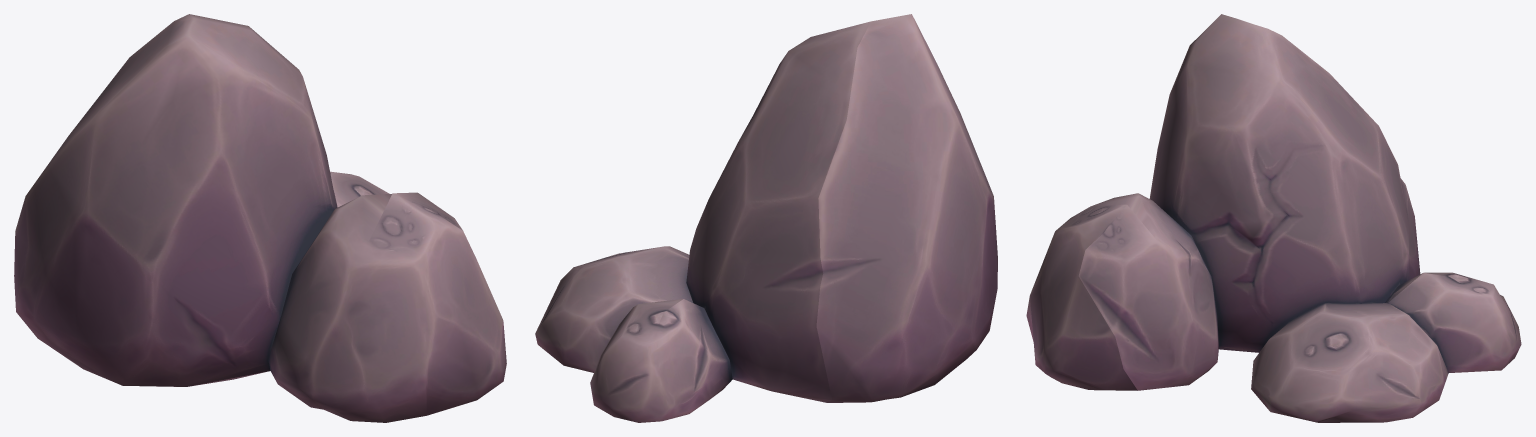
The model's file is Rock2.fbx.
3 views of the same model, side by side, from view 1: azimuth 30°, elevation 25°; view 2: azimuth 150°, elevation 25°; view 3: azimuth 270°, elevation 25° (orthographic). The views are drawn at different scales.
Visible parts, largest first — view 1: Rocks_v02_LP2:Group11652; view 2: Rocks_v02_LP2:Group11652; view 3: Rocks_v02_LP2:Group11652.
Boxes of the visible parts, bbox=[...] form: Rocks_v02_LP2:Group11652: bbox=[14, 14, 506, 422]; Rocks_v02_LP2:Group11652: bbox=[535, 14, 997, 422]; Rocks_v02_LP2:Group11652: bbox=[1026, 14, 1521, 422].
Size of the model in its own units: 3.98 by 3.15 by 4.85.
